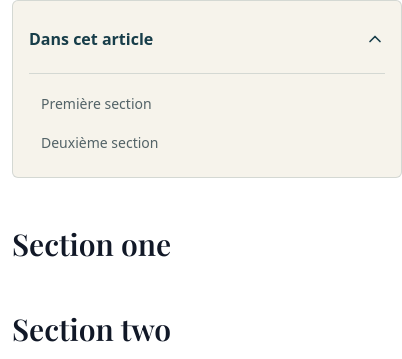
ArticleTableOfContents › renders a collapsible mobile navigation and closes it after link click
Expected: the text "Dans cet article" is shown, [29,27,153,51]
What coordinates should you click on to do the following:
click the link "Deuxième section"
I would click on:
 (100, 143)
Its box is [41,133,158,152].
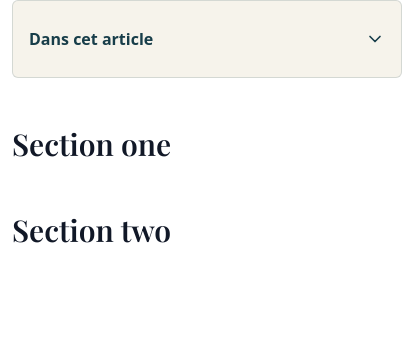
Expected: the element showing "Dans cet article" does not have attribute open, [12,0,401,78]
